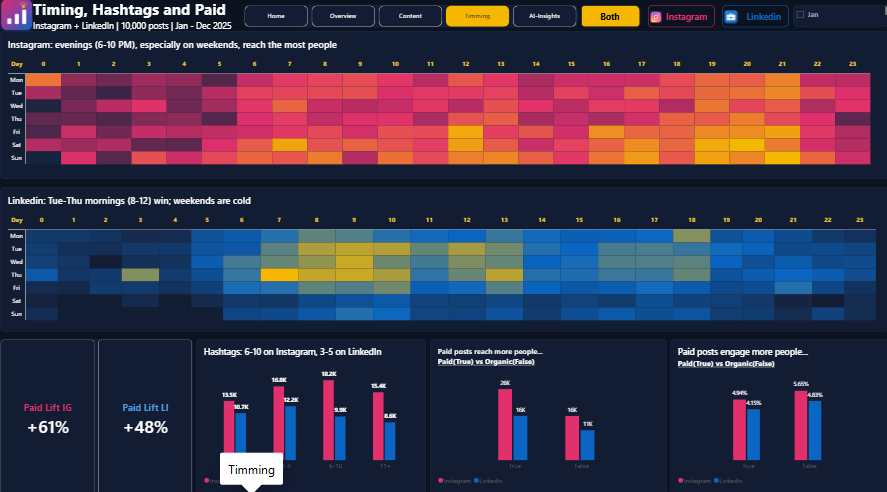

The dashboard page shown, as its layout file describes it:
{"tool":"powerbi","page":{"name":"Timming","canvas":[1920,1080],"ordinal":3},"visuals":[{"type":"image","box":[0,0,72,72],"z":0},{"type":"textbox","title":"Timing, Hashtags and Paid","box":[72,0,448,80],"z":1000},{"type":"pageNavigator","box":[528,16,720,48],"z":2000},{"type":"actionButton","box":[1256,16,128,48],"z":3000},{"type":"actionButton","box":[1400,16,144,48],"z":4000},{"type":"actionButton","box":[1560,16,144,48],"z":5000},{"type":"slicer","fields":{"Values":["Dim_Date.Month"]},"box":[1712,16,208,48],"z":6000},{"type":"pivotTable","title":"Instagram: evenings (6-10 PM), especially on weekends, reach the most people","fields":{"Columns":["Posts.Post_Hour"],"Rows":["Dim_Date.Day"],"Values":["_Measures.Avg Reach per Post"]},"box":[0,72,1920,320],"z":7000},{"type":"pivotTable","title":"Linkedin: Tue-Thu mornings (8-12) win; weekends are cold","fields":{"Columns":["Posts.Post_Hour"],"Rows":["Dim_Date.Day"],"Values":["_Measures.Avg Reach per Post"]},"box":[0,408,1920,312],"z":8000},{"type":"cardVisual","fields":{"Data":["_Measures.Paid Lift IG","_Measures.Paid Lift LI"]},"box":[0,736,416,344],"z":9000},{"type":"clusteredColumnChart","title":"Hashtags: 6-10 on Instagram, 3-5 on LinkedIn","fields":{"Category":["Posts.Hashtag_Band"],"Series":["Posts.Platform"],"Y":["_Measures.Avg Reach per Post"]},"box":[424,736,496,336],"z":10000},{"type":"clusteredColumnChart","title":"Paid posts engage more people...","fields":{"Category":["Posts.Paid_Promotion"],"Series":["Posts.Platform"],"Y":["_Measures.Engagement Rate"]},"box":[1448,736,472,336],"z":11000},{"type":"clusteredColumnChart","title":"Paid posts reach more people...","fields":{"Category":["Posts.Paid_Promotion"],"Series":["Posts.Platform"],"Y":["_Measures.Avg Reach per Post"]},"box":[928,736,512,336],"z":12000}]}

Visuals, with their boxes on the page's 1920x1080 design canvas (x1, y1, x2, y2). These are canvas units, not pixel positions in the 887x492 screenshot, which may show the page scaled, cropped or inside an application window:
image: crop(0, 0, 72, 72)
"Timing, Hashtags and Paid" textbox: crop(72, 0, 520, 80)
pageNavigator: crop(528, 16, 1248, 64)
actionButton: crop(1256, 16, 1384, 64)
actionButton: crop(1400, 16, 1544, 64)
actionButton: crop(1560, 16, 1704, 64)
slicer - Dim_Date.Month: crop(1712, 16, 1920, 64)
"Instagram: evenings (6-10 PM), especially on weekends, reach the most people" pivotTable: crop(0, 72, 1920, 392)
"Linkedin: Tue-Thu mornings (8-12) win; weekends are cold" pivotTable: crop(0, 408, 1920, 720)
cardVisual - _Measures.Paid Lift IG x _Measures.Paid Lift LI: crop(0, 736, 416, 1080)
"Hashtags: 6-10 on Instagram, 3-5 on LinkedIn" clusteredColumnChart: crop(424, 736, 920, 1072)
"Paid posts engage more people..." clusteredColumnChart: crop(1448, 736, 1920, 1072)
"Paid posts reach more people..." clusteredColumnChart: crop(928, 736, 1440, 1072)
